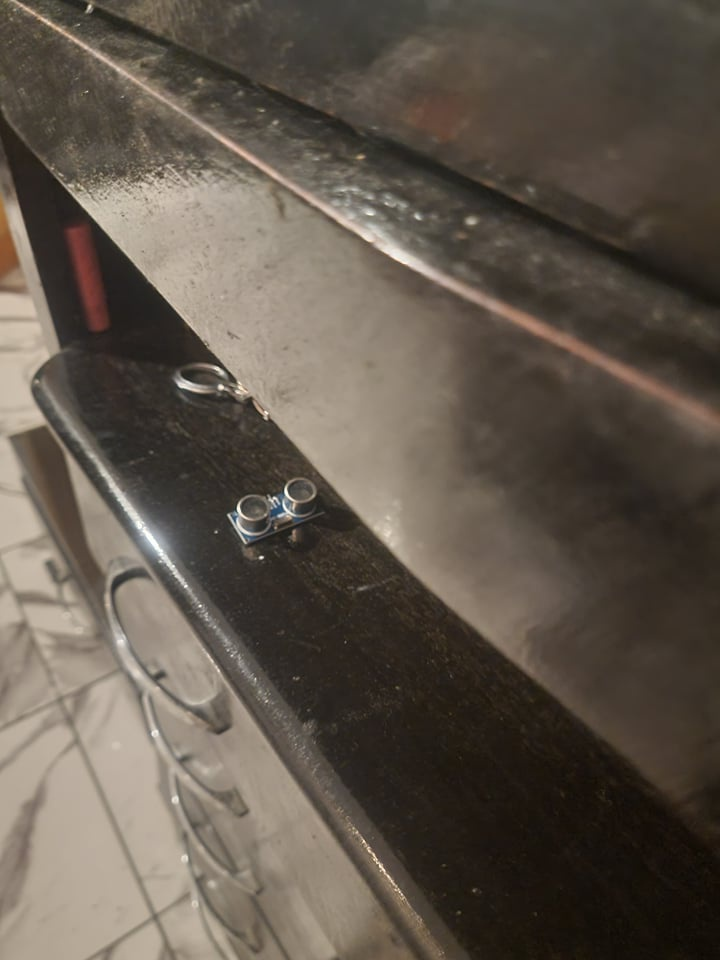SENSOR: (225, 475, 326, 545)
